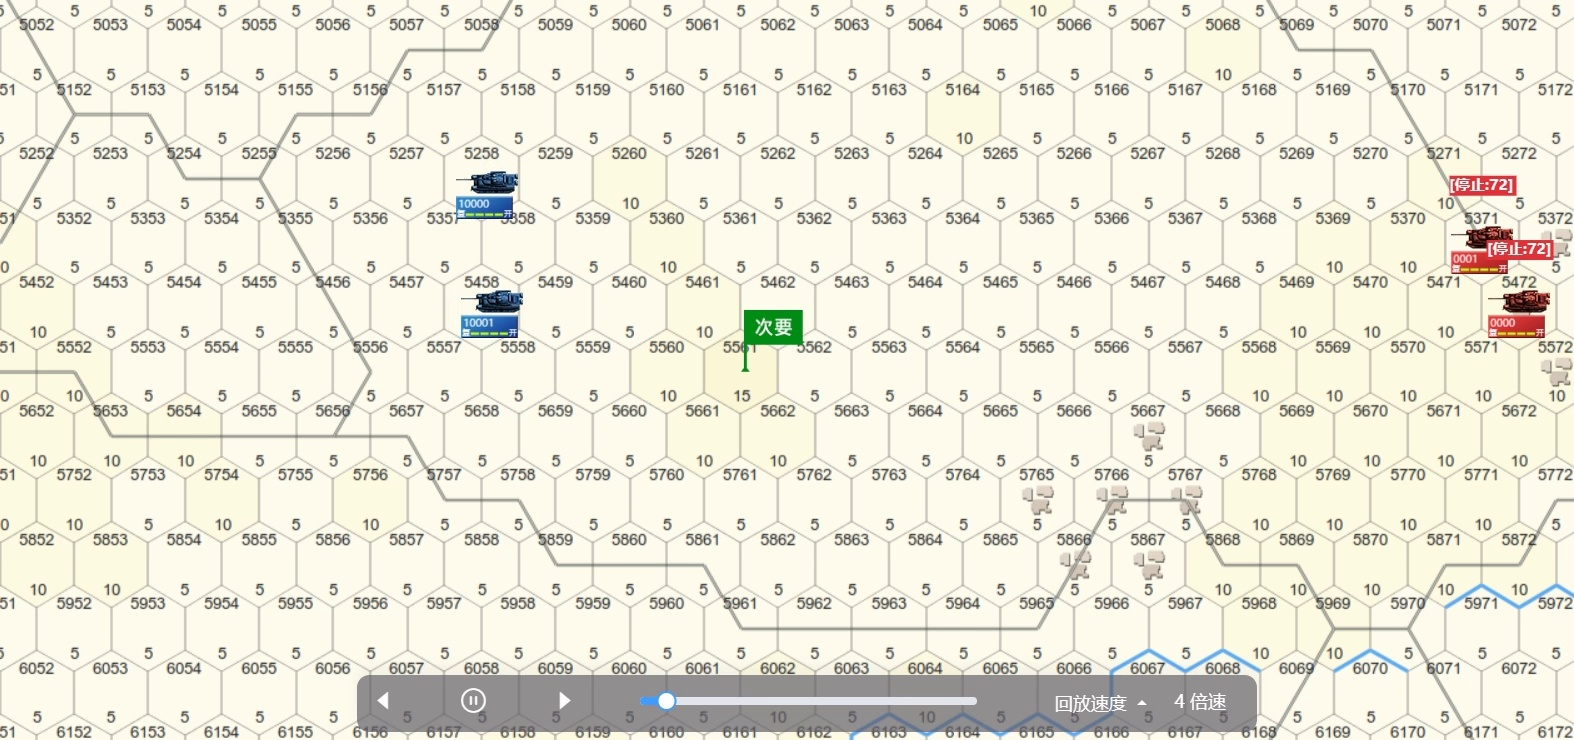blue_tank: (463, 290, 526, 341), (463, 167, 520, 221)
red_tank: (1484, 292, 1551, 332), (1451, 225, 1511, 269)
